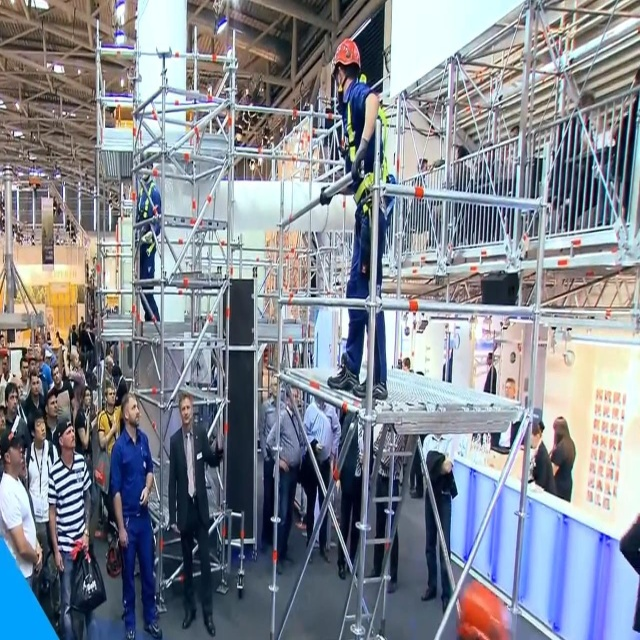Arnes_seguridad: (342, 85, 388, 230), (136, 184, 159, 259)
